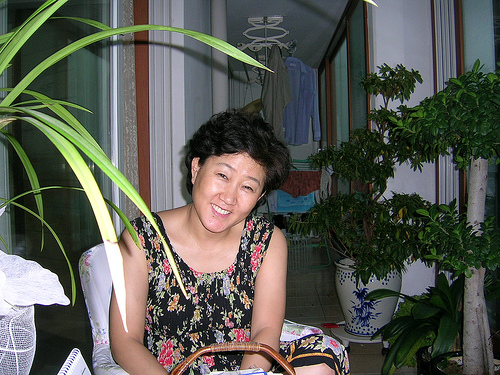without_mask: (188, 146, 267, 232)
